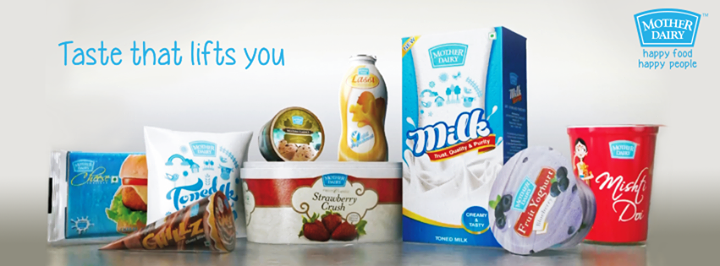Mother_Dairy: (624, 5, 711, 76)
